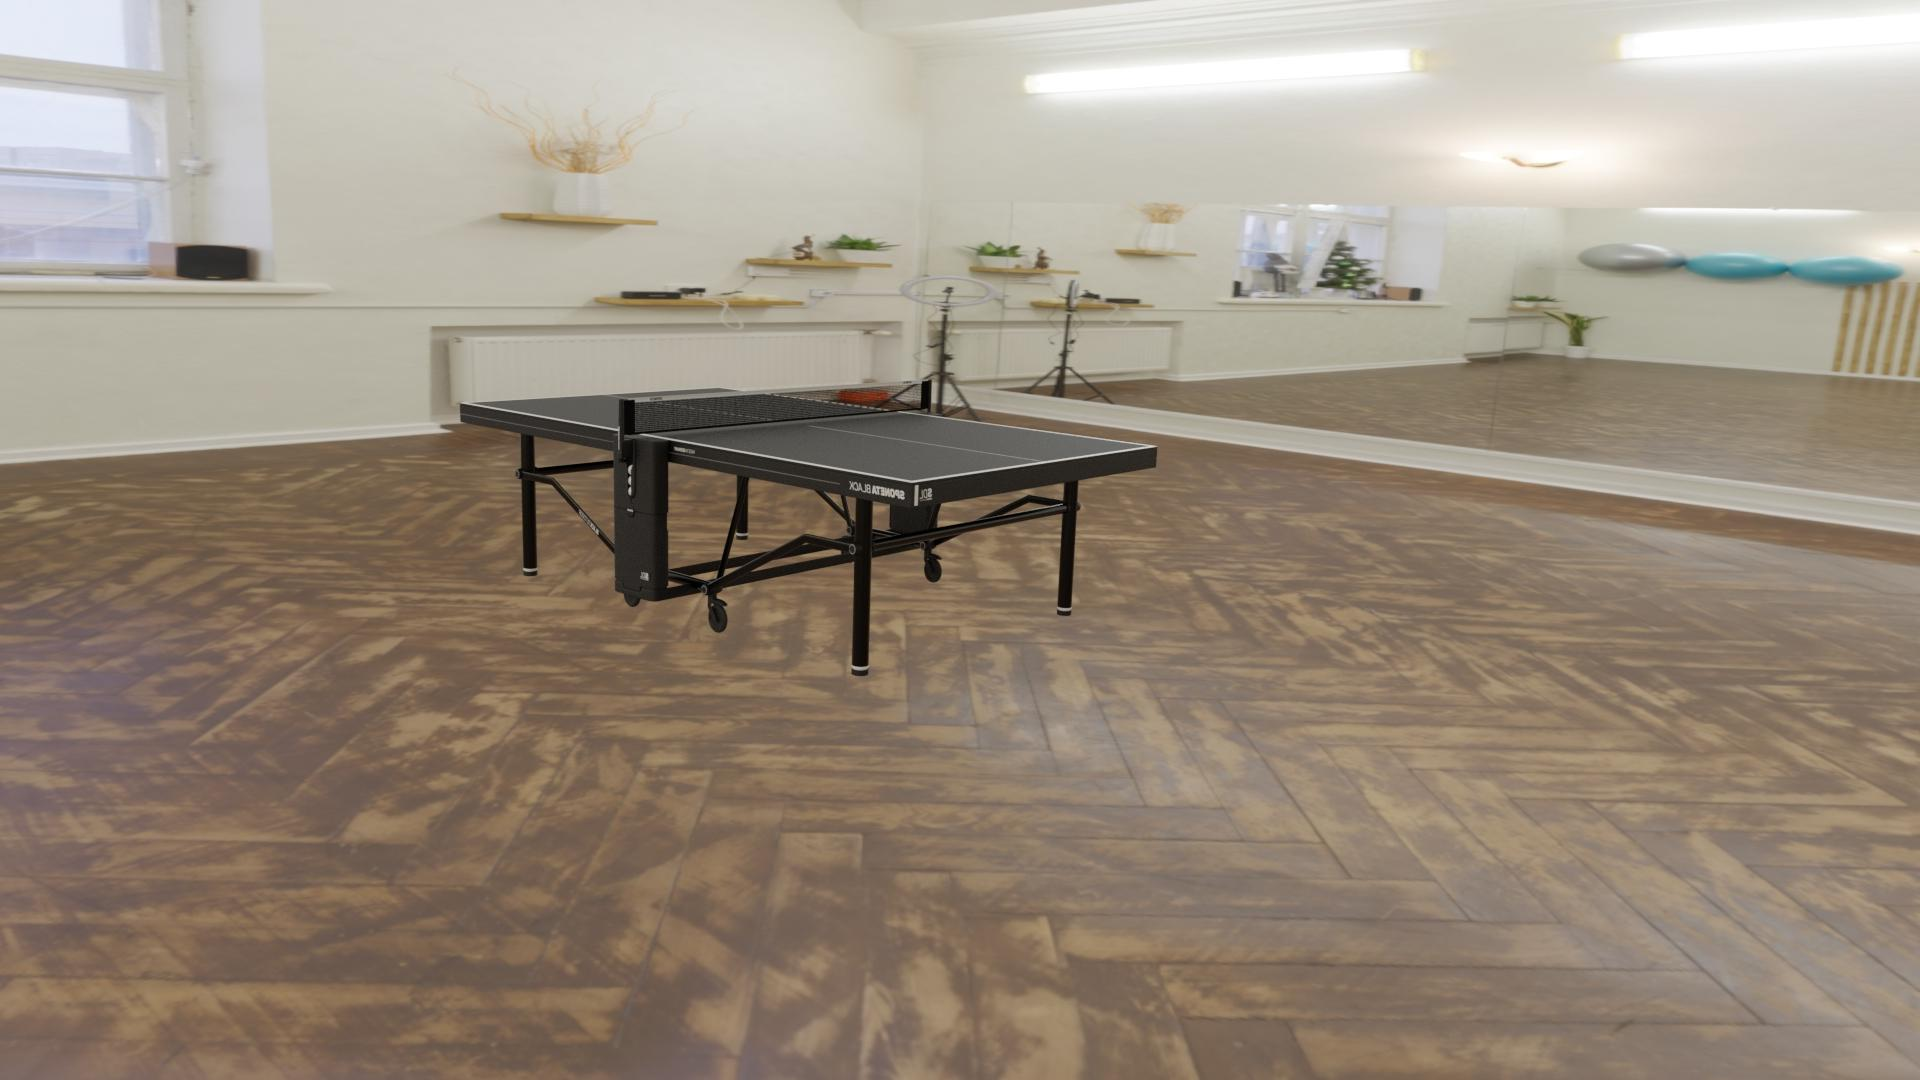table: (465, 388, 1151, 481)
